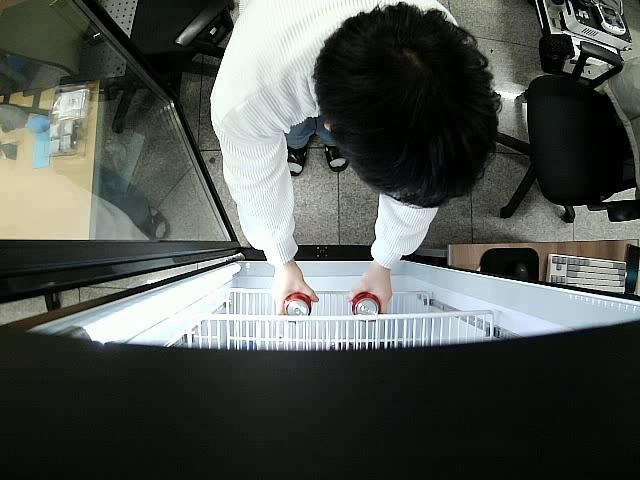00_hand: (271, 271, 318, 325), (345, 271, 394, 317)
11_cocaColaZero: (351, 291, 381, 323), (284, 292, 312, 319)
